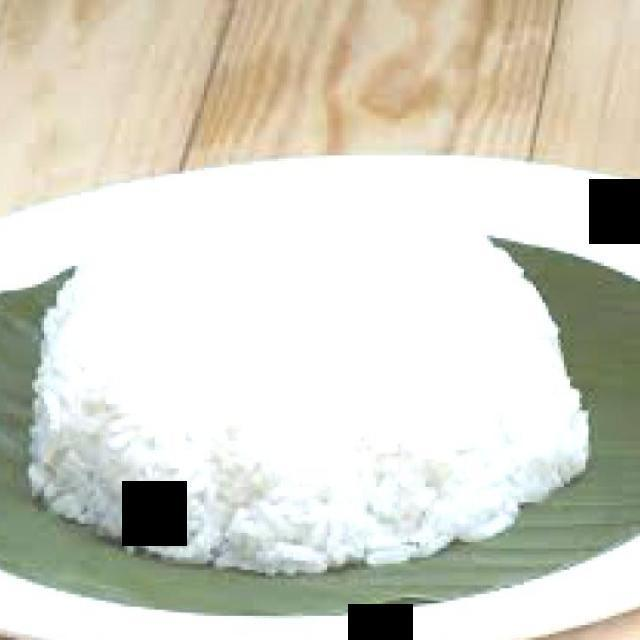Chicken -Chicken Inasal-: (32, 291, 589, 576)
